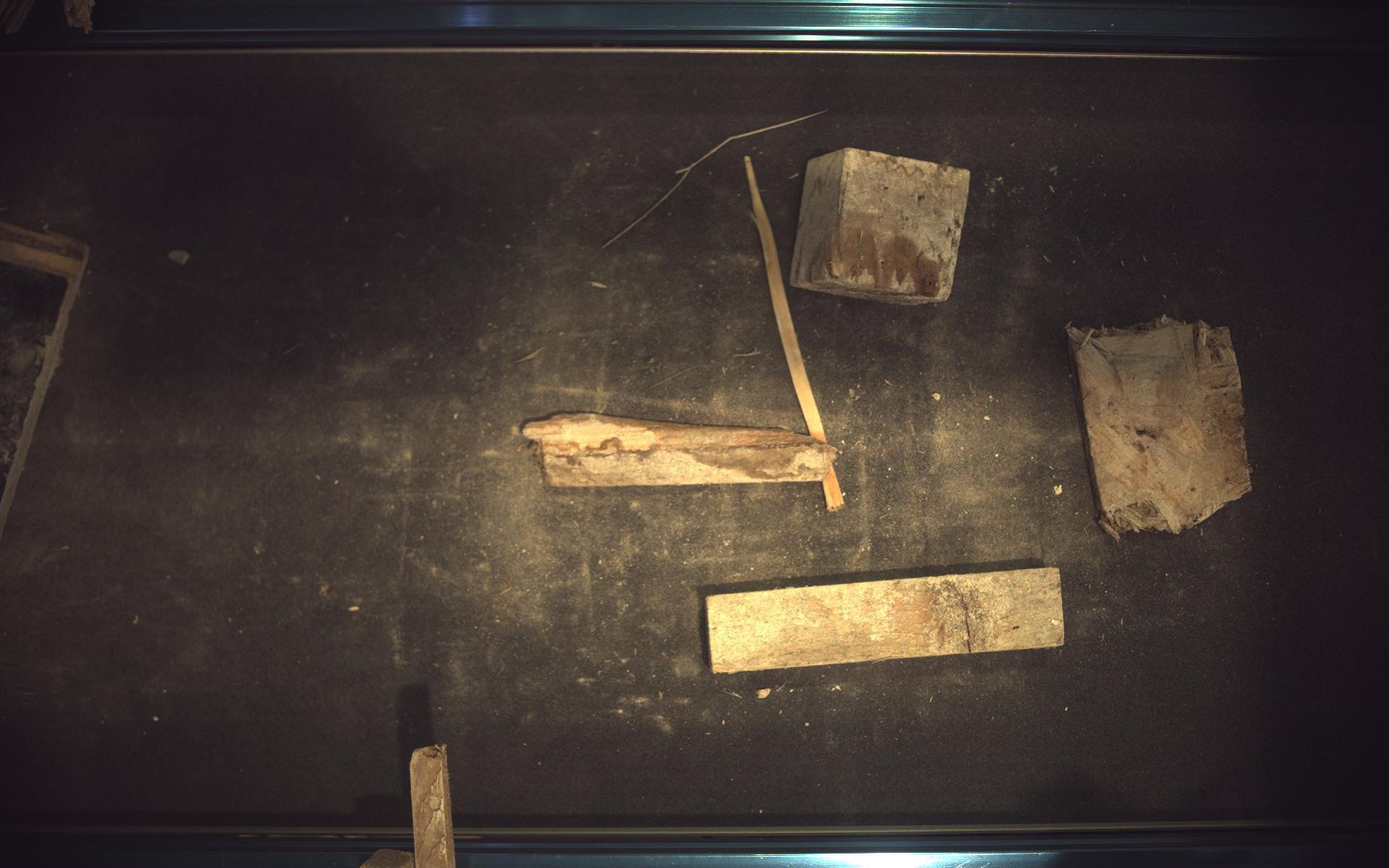wood: (1069, 316, 1254, 540), (707, 568, 1066, 674), (791, 147, 972, 304), (745, 155, 828, 443), (522, 413, 839, 488), (824, 466, 846, 512)
